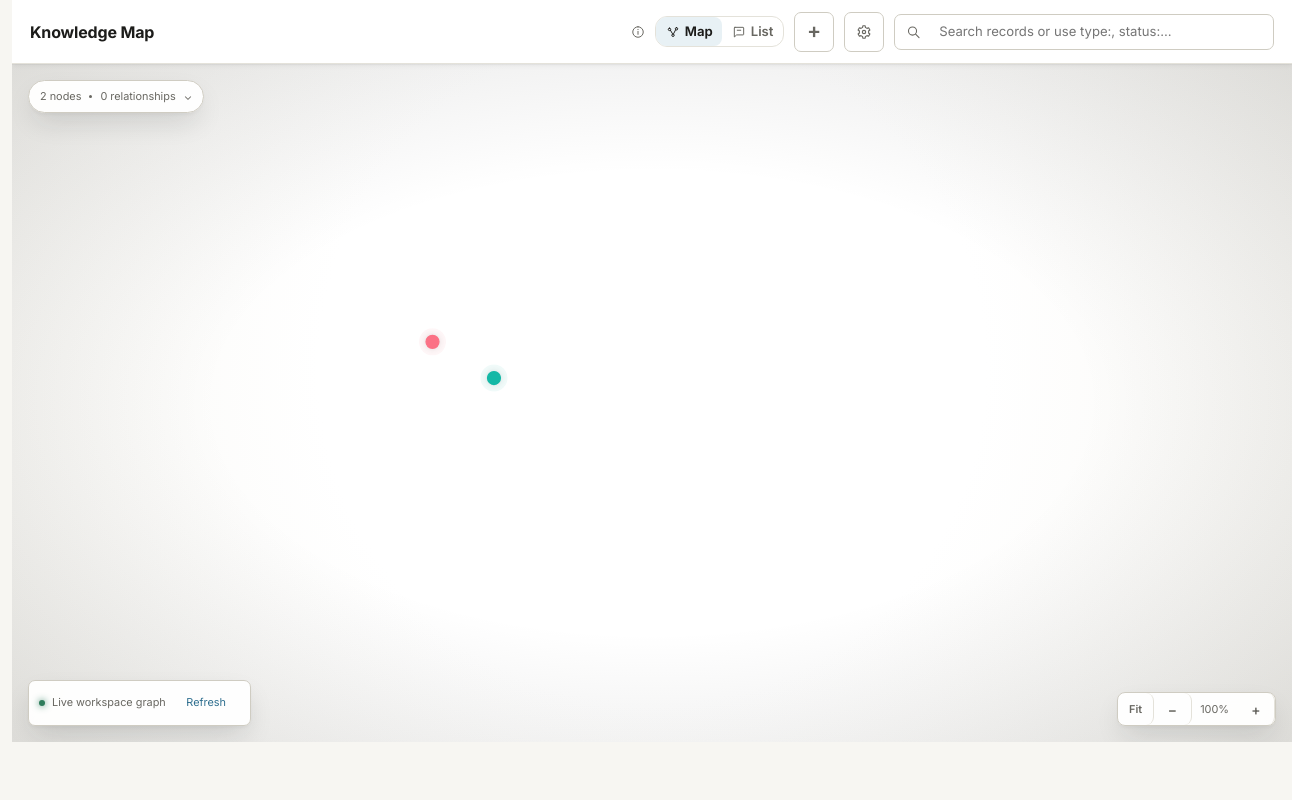
Test: BrainView › tells a filtered-empty map apart from an empty one, and offers the way back
Expected: the button "Rahul, entity record" is shown, [480, 364, 508, 392]
Type "nothing will match this" into the field labelled "Search records" at (1095, 32), box [929, 12, 1262, 52]
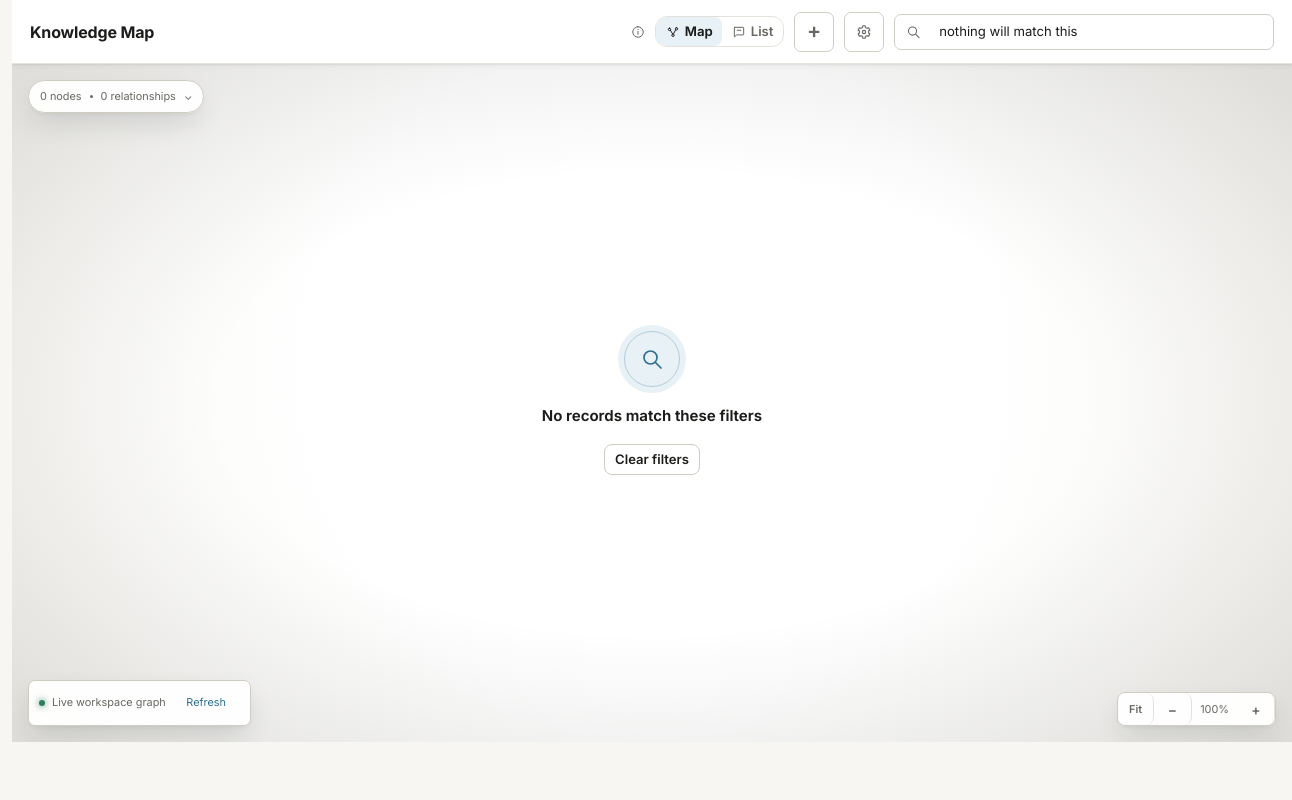
Result: the text "No records match these filters" is shown at [542, 406, 762, 425]
Click the button "Clear filters" at (652, 459), box [604, 444, 700, 475]
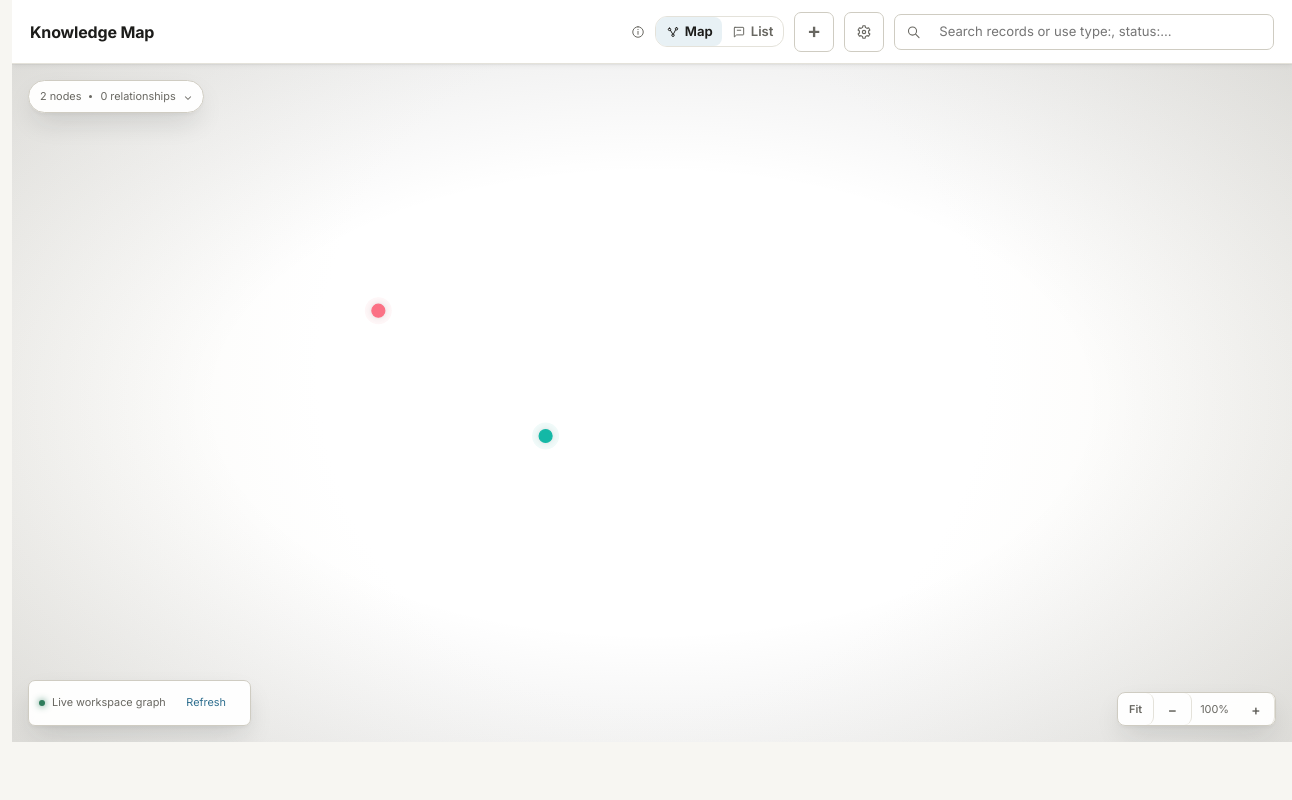
Result: the text "No records match these filters" is gone
